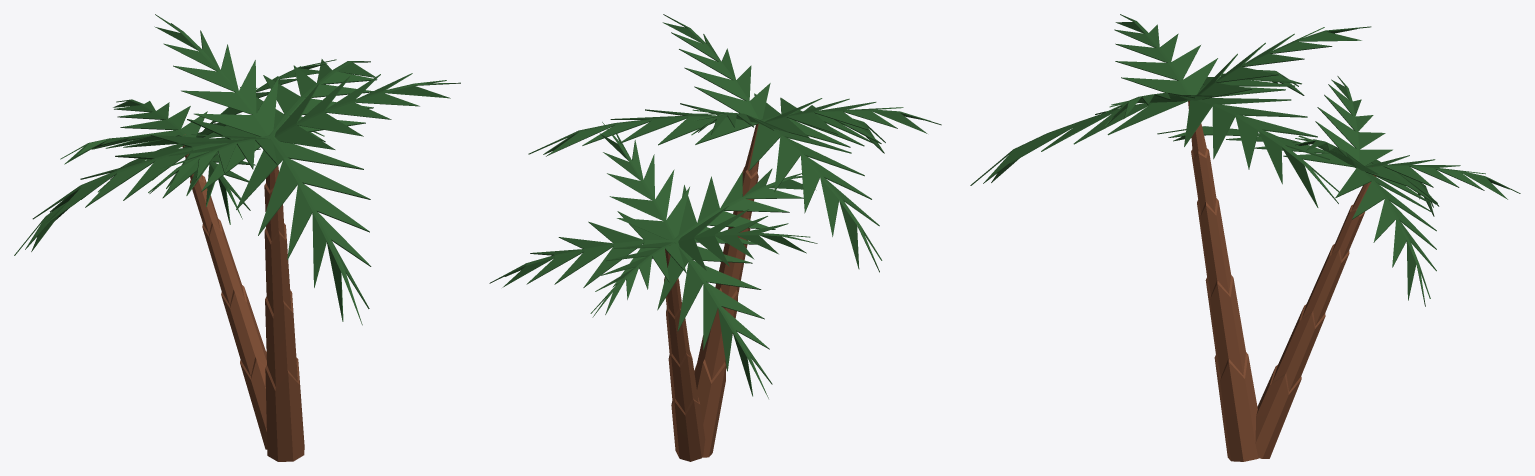
File: palmera_2.fbx
3 views of the same model, side by side, from view 1: azimuth 30°, elevation 25°; view 2: azimuth 150°, elevation 25°; view 3: azimuth 270°, elevation 25° (orthographic). The views are drawn at different scales.
Visible parts, largest first — view 1: palmera_2; view 2: palmera_2; view 3: palmera_2.
Boxes of the visible parts, box(x1,y1,x2,y2) form: palmera_2: box(14, 14, 460, 461); palmera_2: box(489, 14, 941, 461); palmera_2: box(970, 14, 1520, 461).
Bounding box in the file's own units: 4.37 × 4.77 × 5.94.
